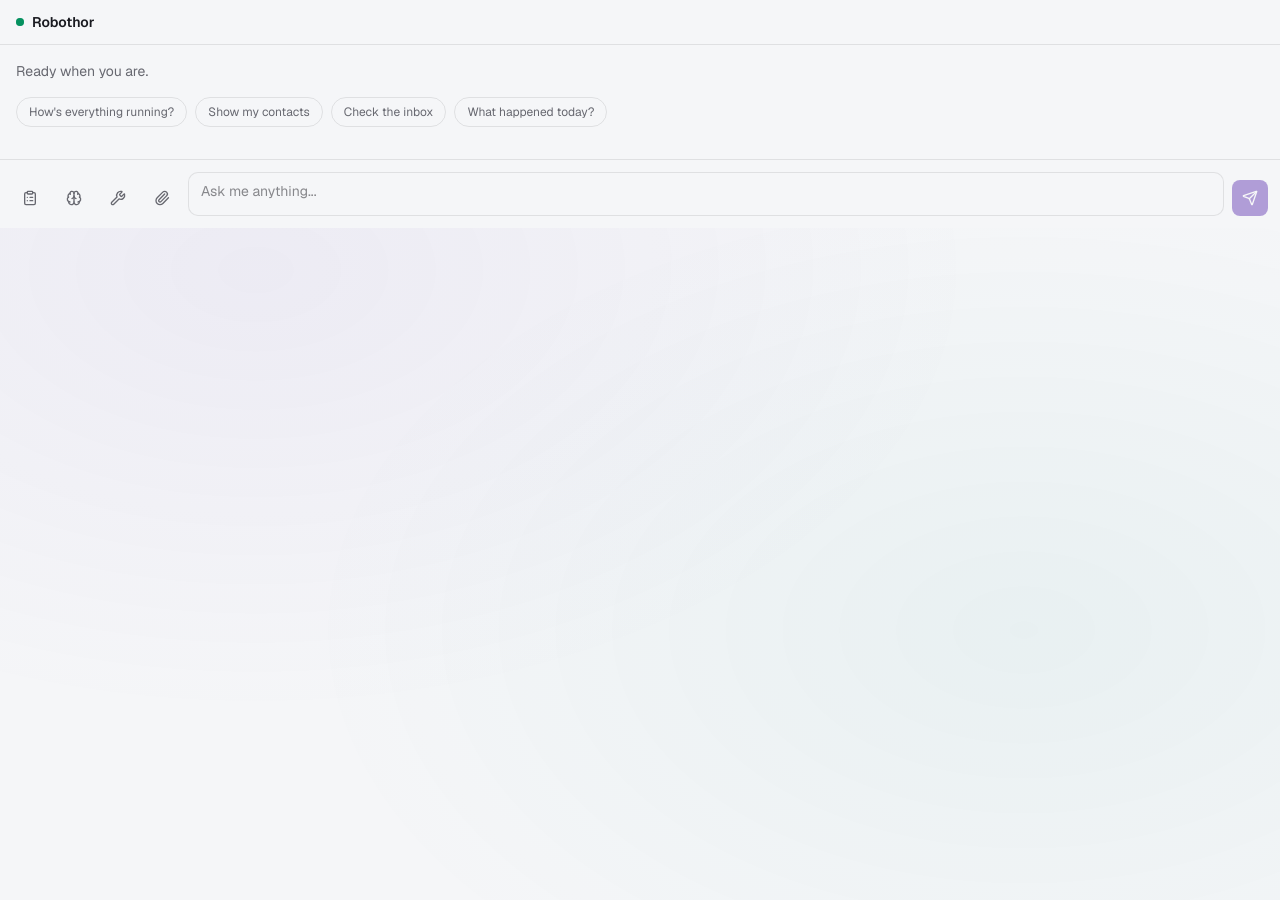
Test: ChatPanel › send button is enabled when input has text
Type "hello" into the text box with test id "chat-input".
click(706, 194); type("hello")  # box [188,172,1224,216]
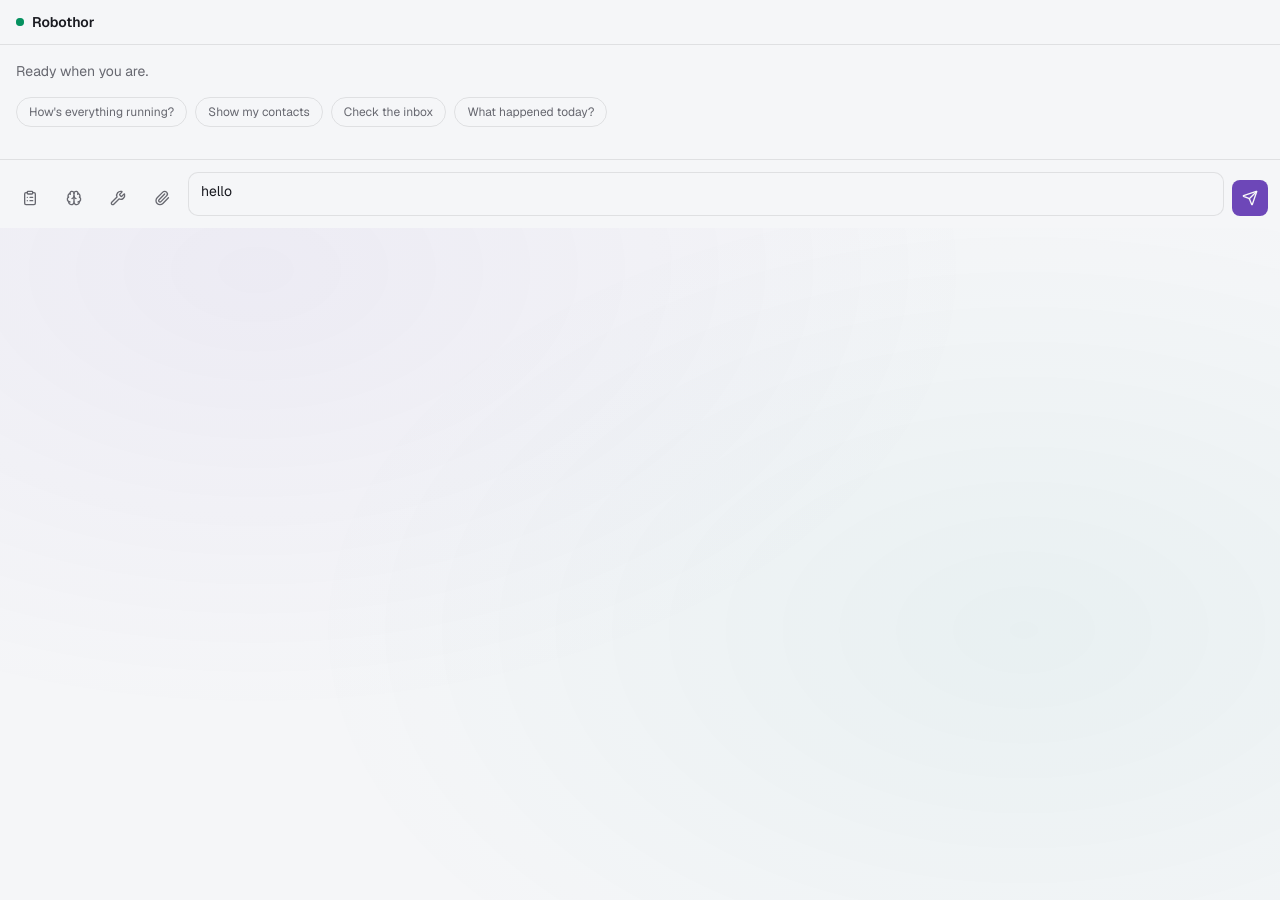
Expected: the button with test id "send-button" is enabled, [1232,180,1268,216]
